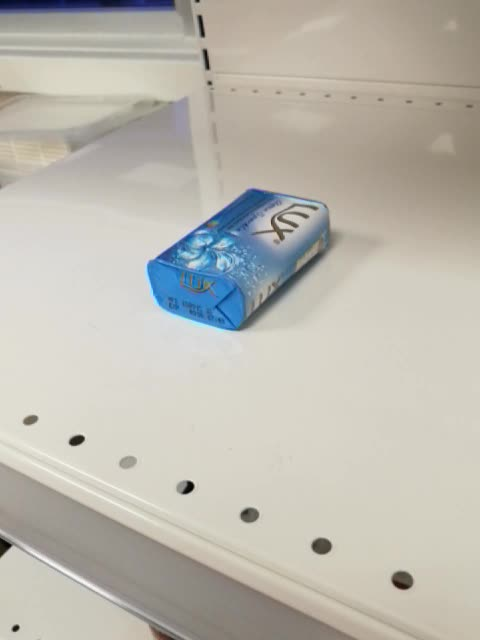soap: (146, 182, 334, 333)
